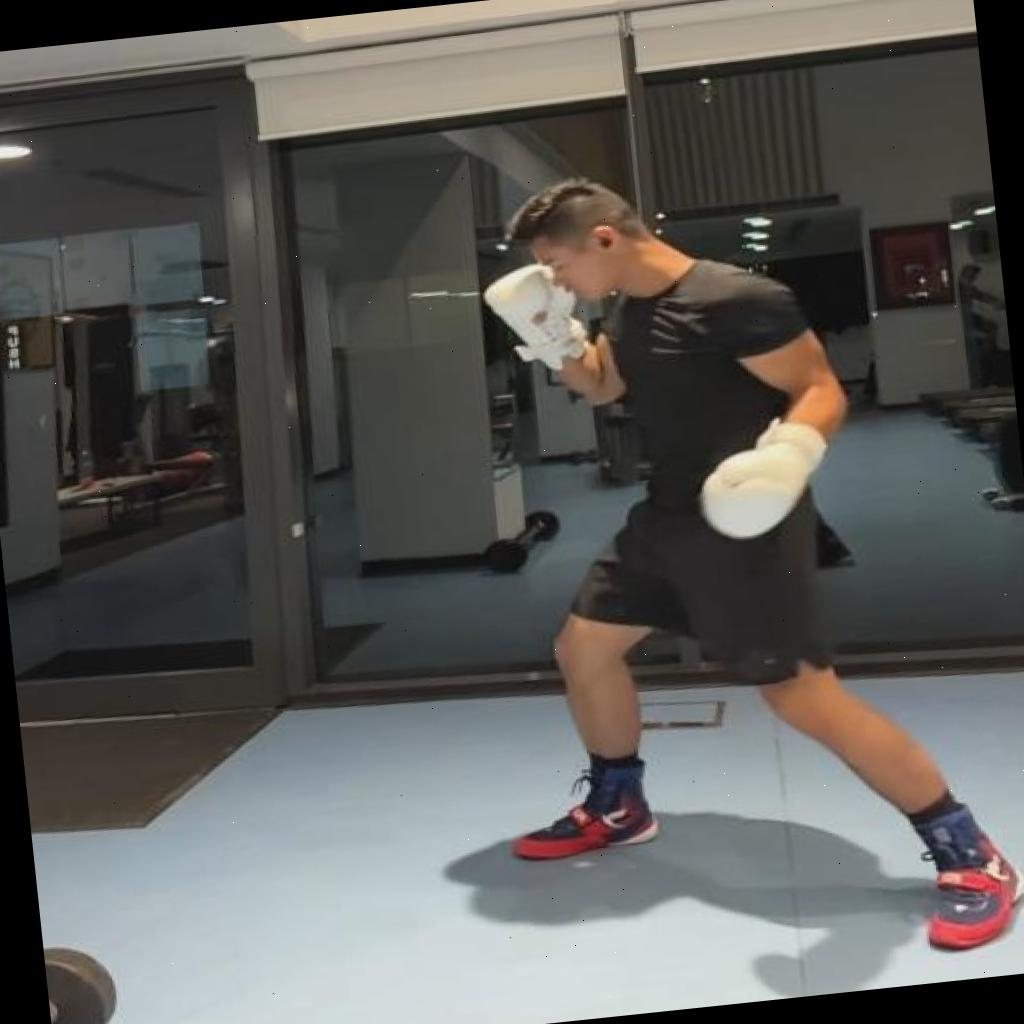no punch: (445, 139, 1024, 1002)
